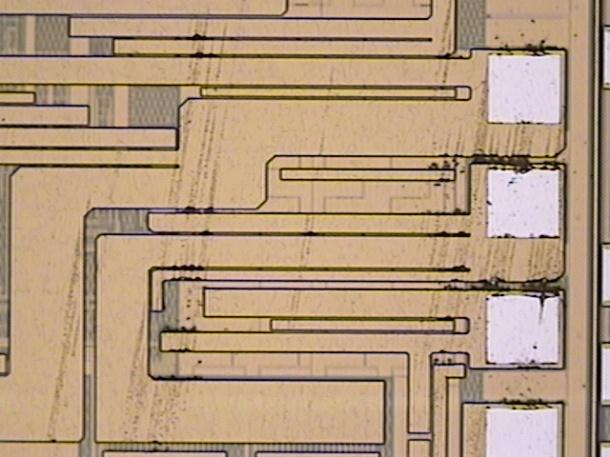SCRATCH: (45, 1, 569, 457)
